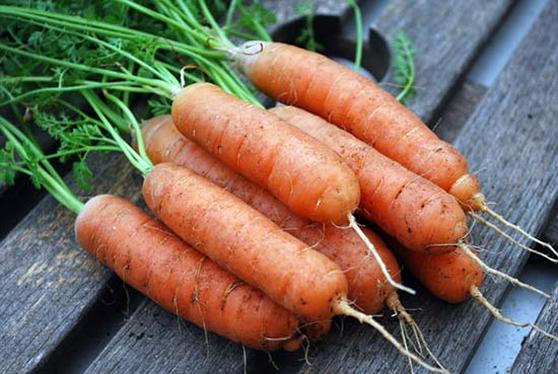carrot: (166, 76, 368, 230)
